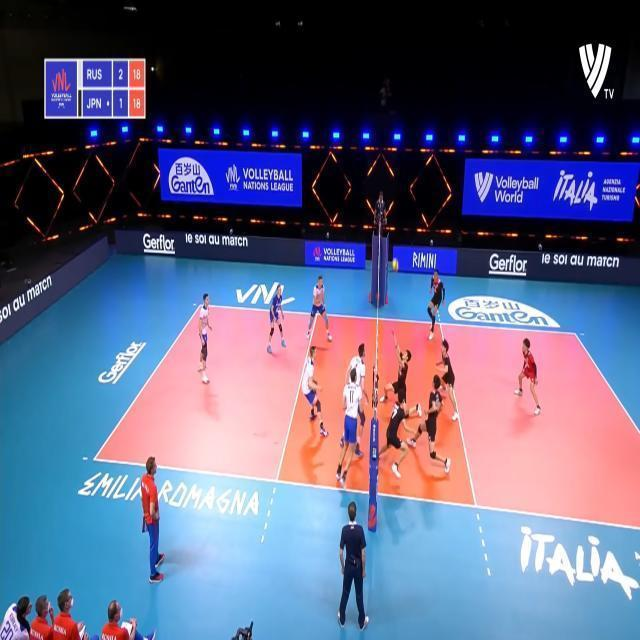volleyball: (392, 258, 399, 268)
